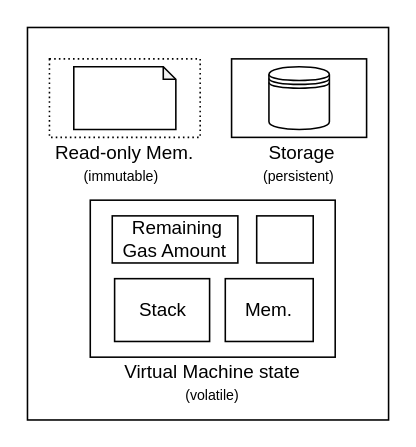
This 416x447 diagram has some shape labels left out. The shapes that lost their labels are listed below. From the top down, each one's centre as x and y in pixels, then its label:
the point at 124,97: EVM Bytecode
the point at 284,238: PC
